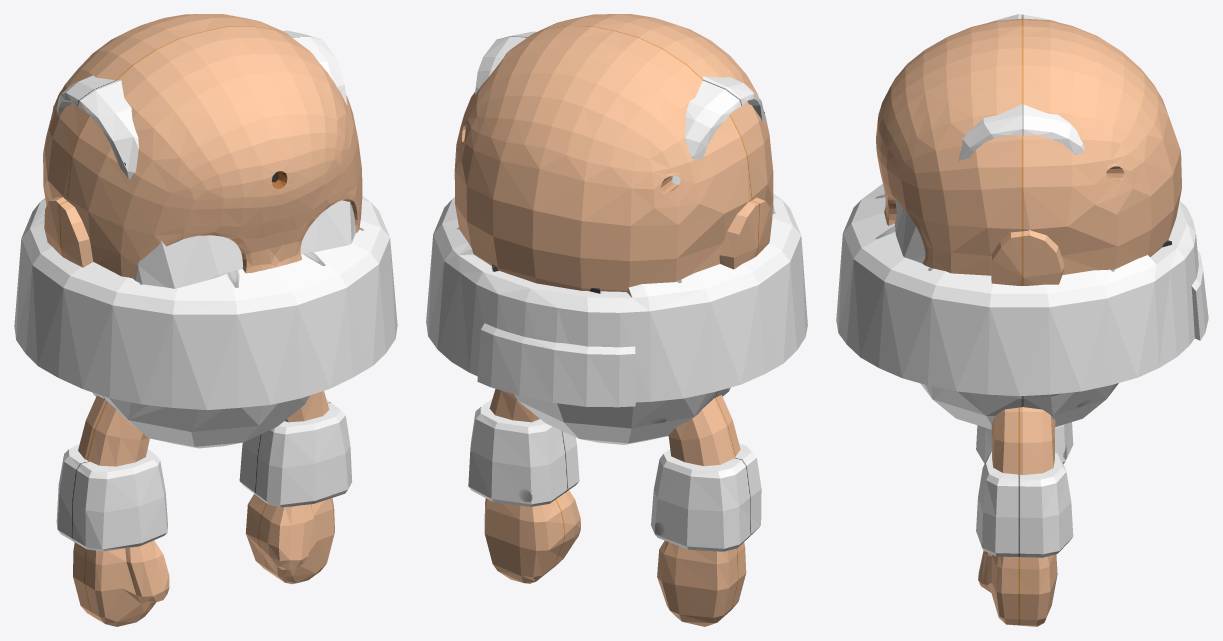
File: CommU_24_Unity.obj
3 renders of one model, left to right at view 1: azimuth 30°, elevation 25°; view 2: azimuth 150°, elevation 25°; view 3: azimuth 270°, elevation 25°, orthographic. The views are drawn at different scales.
Visible parts, largest first — view 1: Face_C, Base_C, Arm_L_C, Body_C, Arm_R_C; view 2: Face_C, Base_C, Arm_L_C, Arm_R_C, Body_C; view 3: Face_C, Base_C, Arm_R_C, Body_C, Arm_L_C.
Boxes of the visible parts, x1,y1,x2,y2 form: Face_C: (43,14,362,278); Base_C: (14,196,397,409); Arm_L_C: (56,395,169,626); Body_C: (57,30,355,448); Arm_R_C: (239,391,352,584); Face_C: (454,14,773,291); Base_C: (426,193,807,407); Arm_L_C: (651,395,761,626); Arm_R_C: (468,389,580,583); Body_C: (475,31,774,444); Face_C: (876,18,1181,285); Base_C: (836,184,1208,396); Arm_R_C: (976,407,1073,626); Body_C: (895,14,1118,429); Arm_L_C: (976,422,1073,463).
Size of the model in its own units: 5.85 by 9.49 by 5.88.
3 materials, 3 textured.
